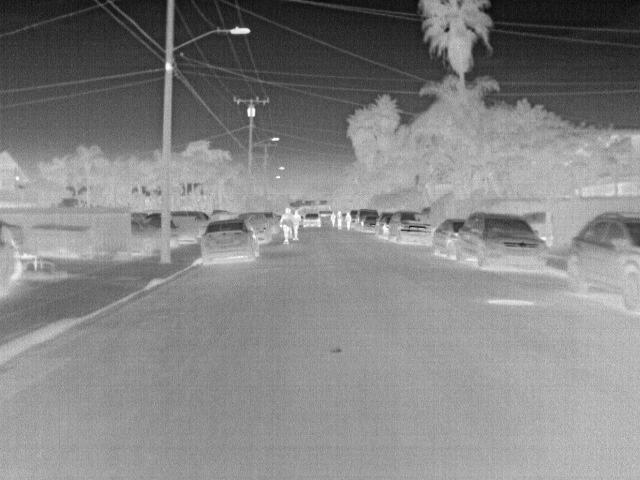car: (563, 210, 640, 314), (451, 212, 551, 268), (198, 219, 261, 268), (387, 211, 432, 241), (431, 219, 465, 256), (131, 219, 162, 256), (240, 212, 273, 242), (171, 210, 210, 228), (361, 212, 382, 229), (301, 212, 322, 229), (262, 212, 278, 232), (377, 215, 392, 236)
person: (278, 207, 292, 242), (291, 206, 303, 239), (342, 210, 354, 229), (336, 209, 345, 230), (329, 209, 337, 229)
